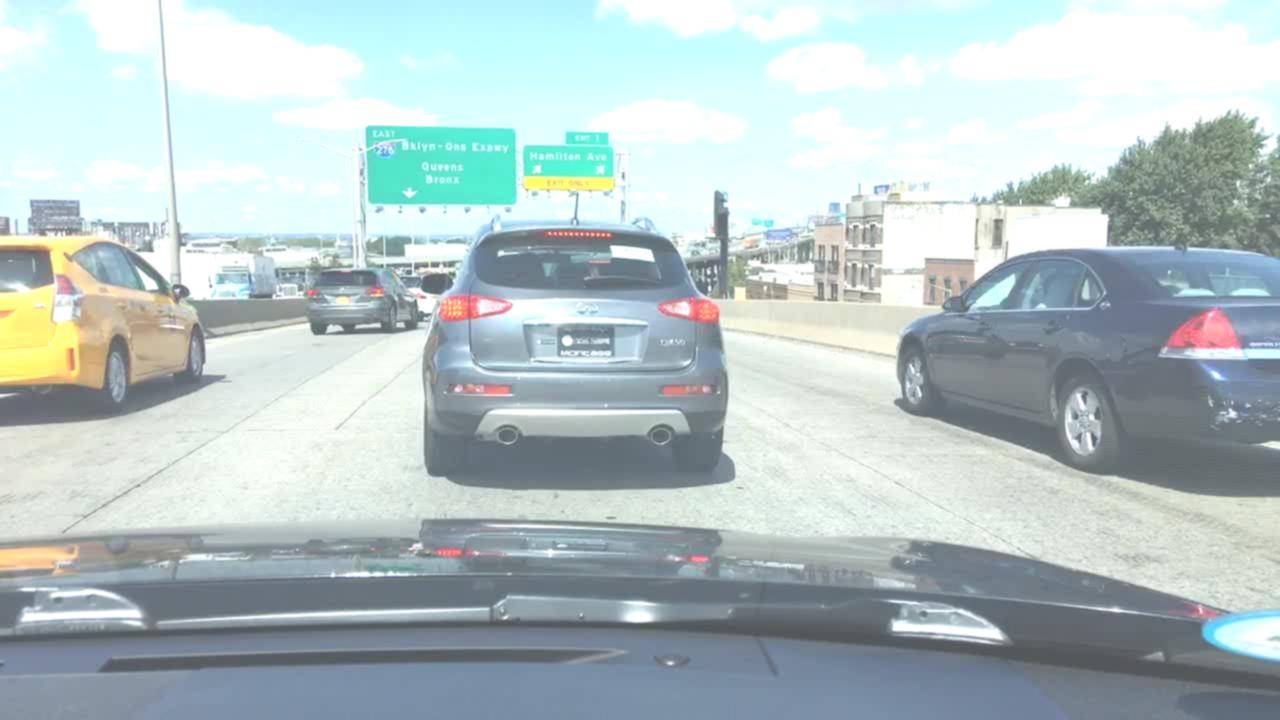Infiniti: (575, 298, 601, 317)
